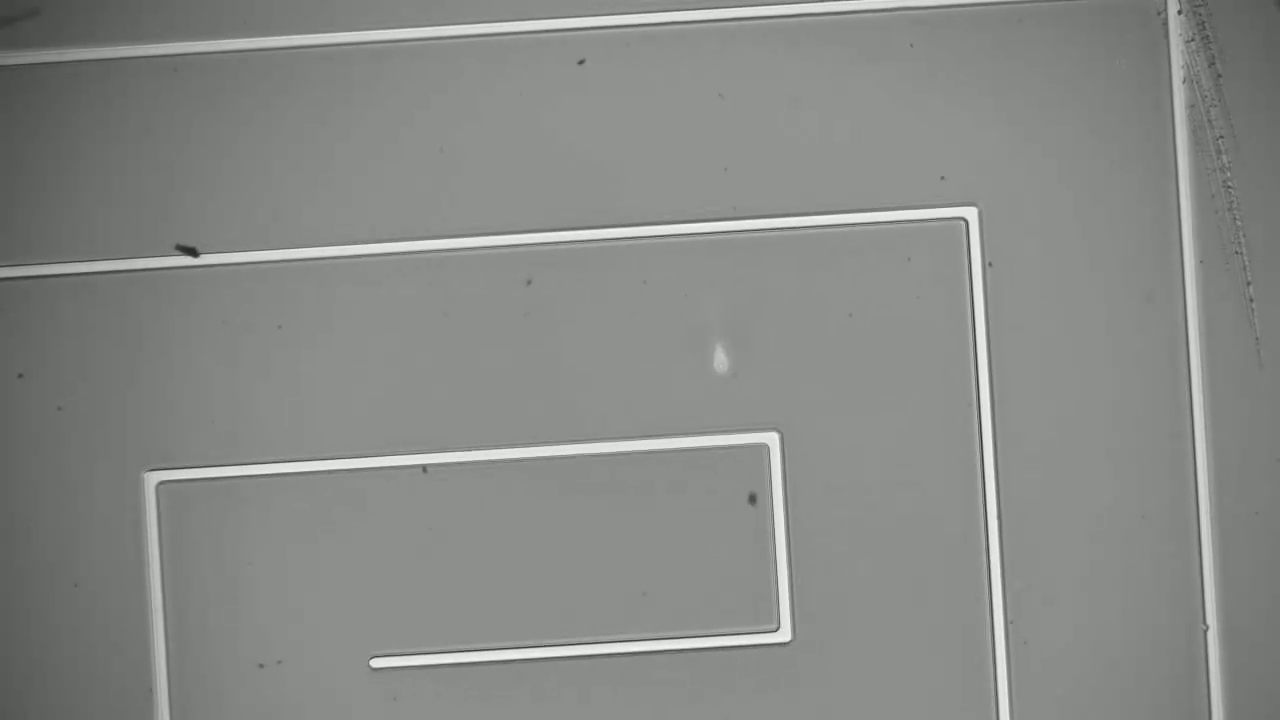stains_enbedded: (173, 239, 212, 271)
